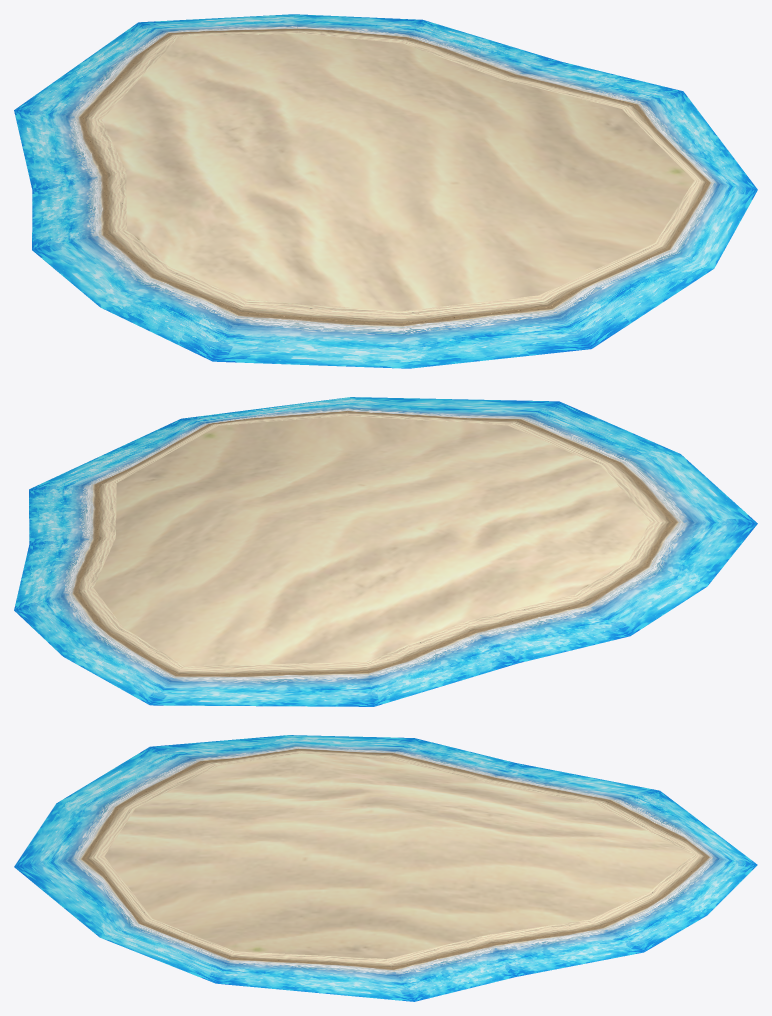
Rendered from bch_island3.fbx.
3 renders of one model, top to bottom at view 1: azimuth 30°, elevation 25°; view 2: azimuth 150°, elevation 25°; view 3: azimuth 270°, elevation 25°, orthographic. The views are drawn at different scales.
Visible parts, largest first — view 1: bch_island3; view 2: bch_island3; view 3: bch_island3.
Boxes of the visible parts, x1,y1,x2,y2 form: bch_island3: (14,14,757,368); bch_island3: (14,397,757,706); bch_island3: (14,735,757,1001).
Bounding box in the file's own units: 12151 × 771 × 14315.
